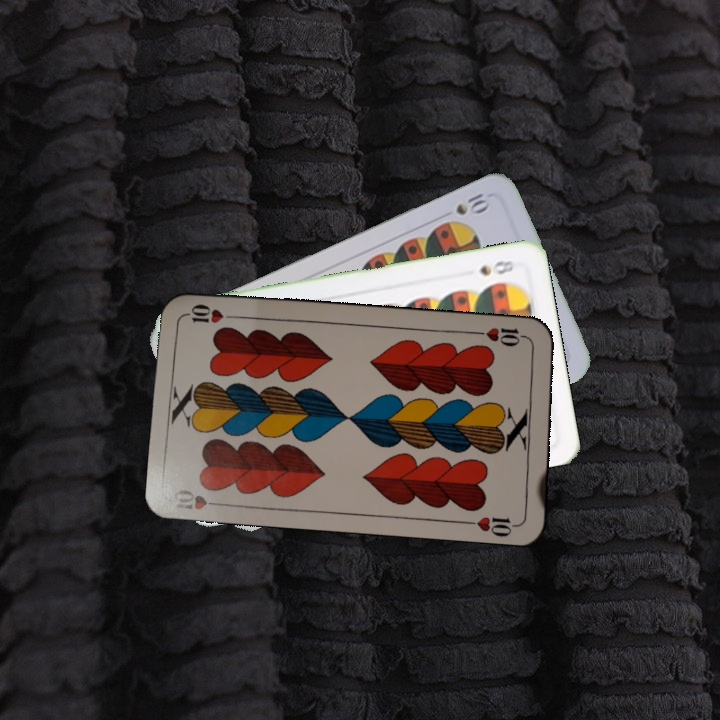H10: (169, 485, 229, 512), (473, 323, 532, 349)
S10: (451, 187, 490, 218)
S8: (475, 256, 519, 278)
